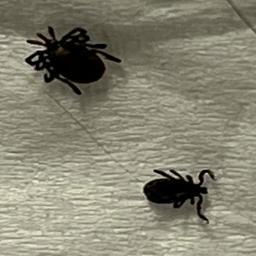Ixodes scapularis: (24, 26, 123, 94), (142, 169, 215, 225)
